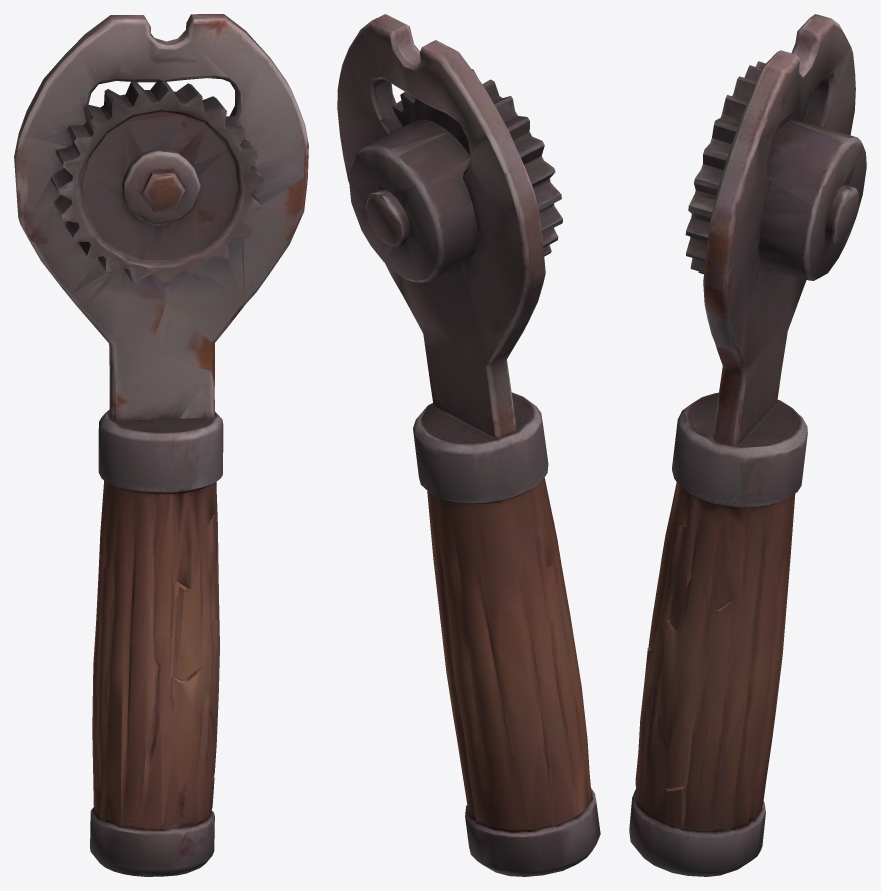
File: wrench_alt_idle.glb
3 renders of one model, left to right at view 1: azimuth 30°, elevation 25°; view 2: azimuth 150°, elevation 25°; view 3: azimuth 270°, elevation 25°, orthographic. The views are drawn at different scales.
Parts seen in each view (by area): view 1: tripo_node_c4cbbd5d-36fa-4536-9aa0-58e96e219f3b; view 2: tripo_node_c4cbbd5d-36fa-4536-9aa0-58e96e219f3b; view 3: tripo_node_c4cbbd5d-36fa-4536-9aa0-58e96e219f3b.
Part boxes in pixels (bbox=[...]): tripo_node_c4cbbd5d-36fa-4536-9aa0-58e96e219f3b: bbox=[14, 14, 308, 876]; tripo_node_c4cbbd5d-36fa-4536-9aa0-58e96e219f3b: bbox=[337, 14, 600, 876]; tripo_node_c4cbbd5d-36fa-4536-9aa0-58e96e219f3b: bbox=[629, 14, 866, 876].
Bounding box in the file's own units: 0.0947 × 0.3 × 0.076.
Materials: 1 (1 with a texture image).
